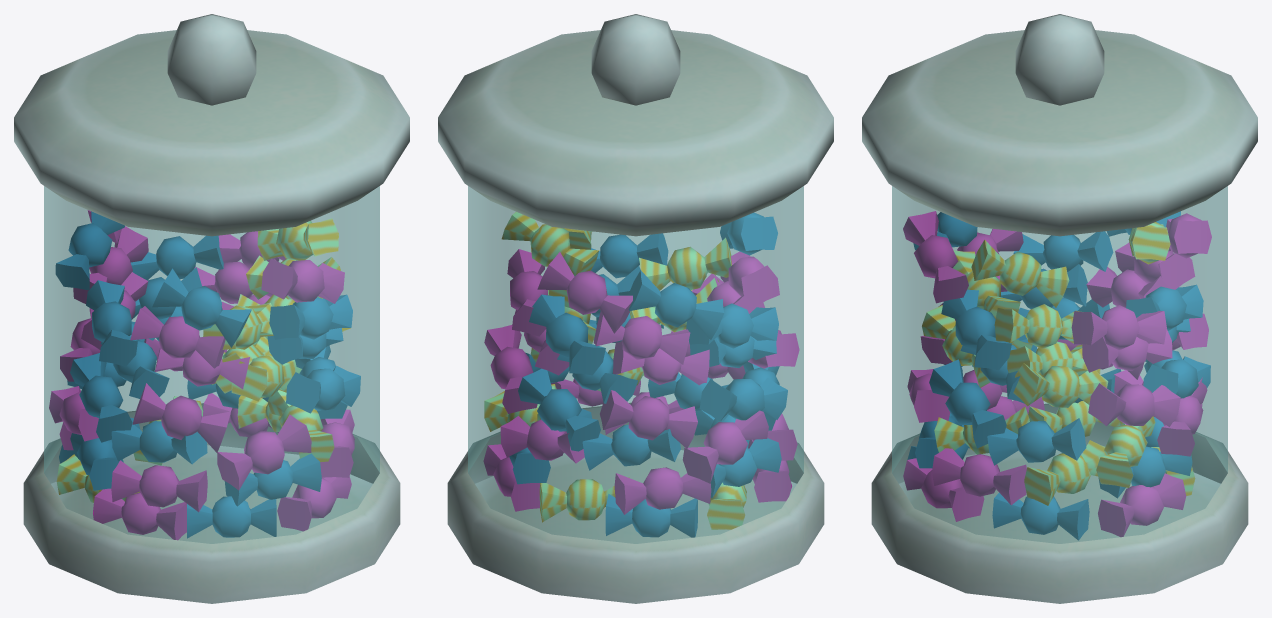
The model's file is Sweet_Jar1.fbx.
3 renders of one model, left to right at view 1: azimuth 30°, elevation 25°; view 2: azimuth 150°, elevation 25°; view 3: azimuth 270°, elevation 25°, orthographic.
Parts seen in each view (by area): view 1: jar7; view 2: jar7; view 3: jar7.
Part boxes in pixels (x1,y1,x2,y2): jar7: (14, 14, 409, 603); jar7: (438, 14, 833, 603); jar7: (862, 14, 1257, 603).
Size of the model in its own units: 29.51 by 41.85 by 29.51.
